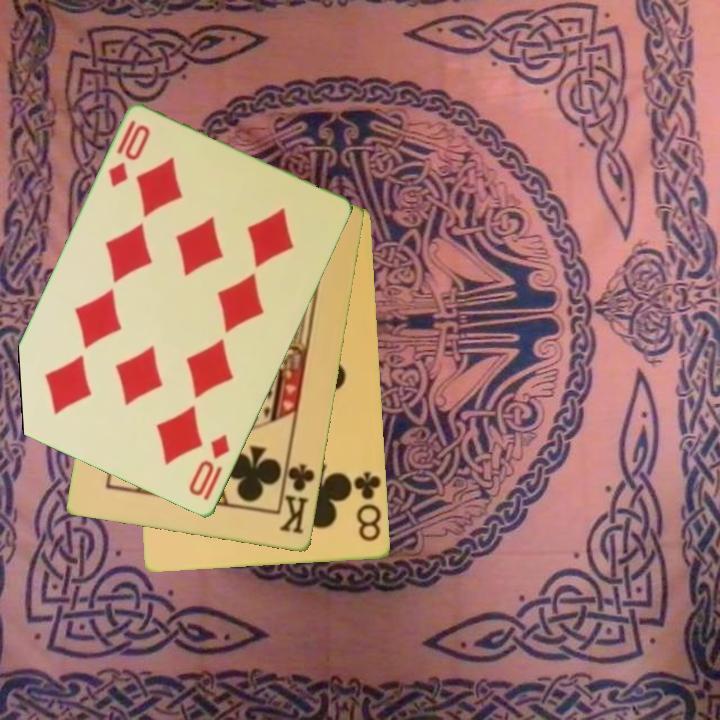10d: (105, 116, 154, 190), (185, 431, 234, 504)
8c: (351, 469, 384, 545)
Kc: (276, 455, 318, 538)
